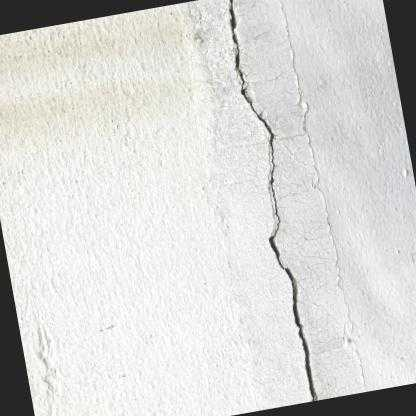crack: (227, 0, 318, 401)
